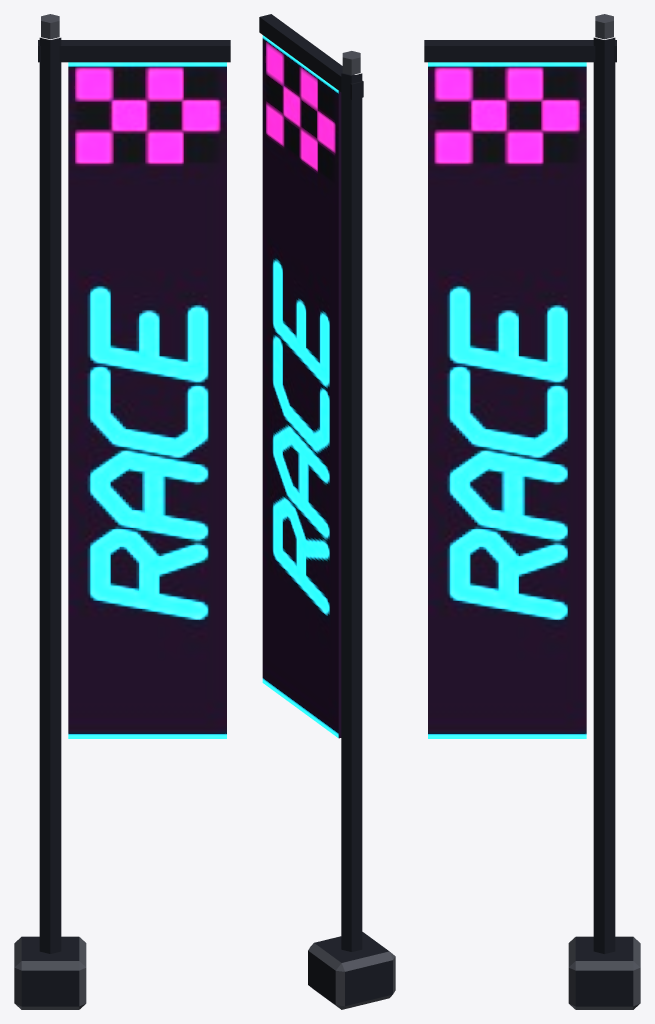
File: banner.glb
3 views of the same model, side by side, from view 1: azimuth 90°, elevation 25°; view 2: azimuth 210°, elevation 25°; view 3: azimuth 270°, elevation 25° (orthographic). The views are drawn at different scales.
Parts seen in each view (by area): view 1: banner; view 2: banner; view 3: banner.
Part boxes in pixels (x1=…): banner: x1=14, y1=14, x2=230, y2=1009; banner: x1=259, y1=14, x2=395, y2=1009; banner: x1=424, y1=14, x2=640, y2=1009.
Bounding box in the file's own units: 0.4 × 6 × 1.2.
Materials: 1 (1 with a texture image).
